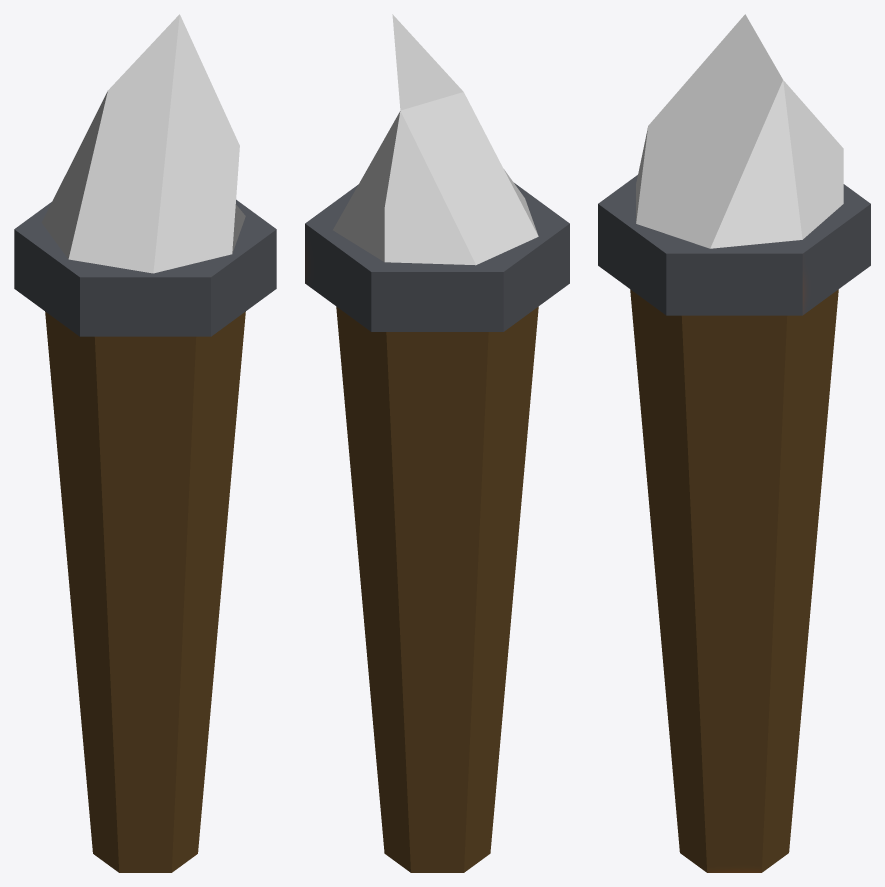
File: HandheldTorch.fbx
3 views of the same model, side by side, from view 1: azimuth 30°, elevation 25°; view 2: azimuth 150°, elevation 25°; view 3: azimuth 270°, elevation 25° (orthographic). The views are drawn at different scales.
Visible parts, largest first — view 1: Circle; view 2: Circle; view 3: Circle.
Boxes of the visible parts, x1=… form: Circle: x1=14, y1=14, x2=276, y2=872; Circle: x1=305, y1=14, x2=569, y2=872; Circle: x1=598, y1=14, x2=870, y2=872.
Bounding box in the file's own units: 17.32 × 69.47 × 20.
Materials: 2 (1 with a texture image).
